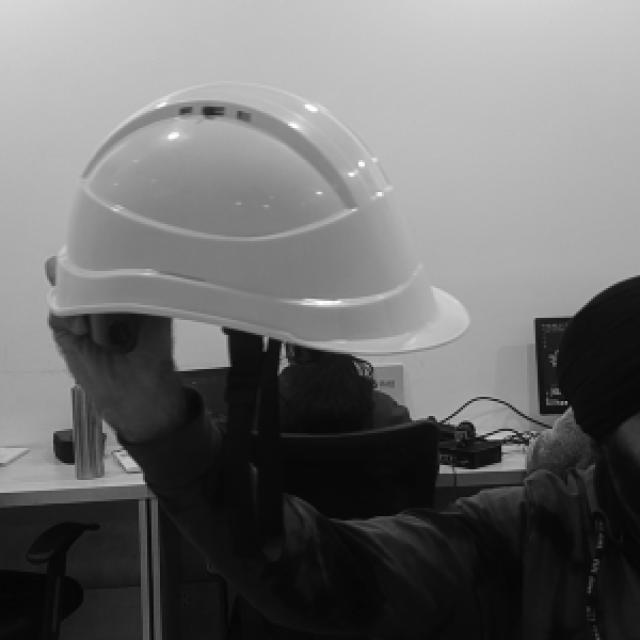safety_helmet: (50, 81, 471, 356)
